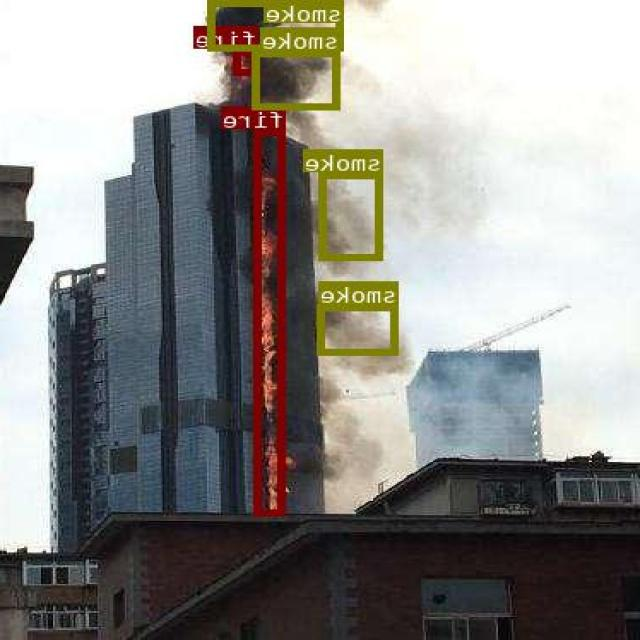fire: (256, 128, 287, 515), (235, 49, 260, 74)
smoke: (209, 0, 344, 50), (320, 172, 384, 259), (255, 50, 342, 109), (320, 303, 400, 353)
